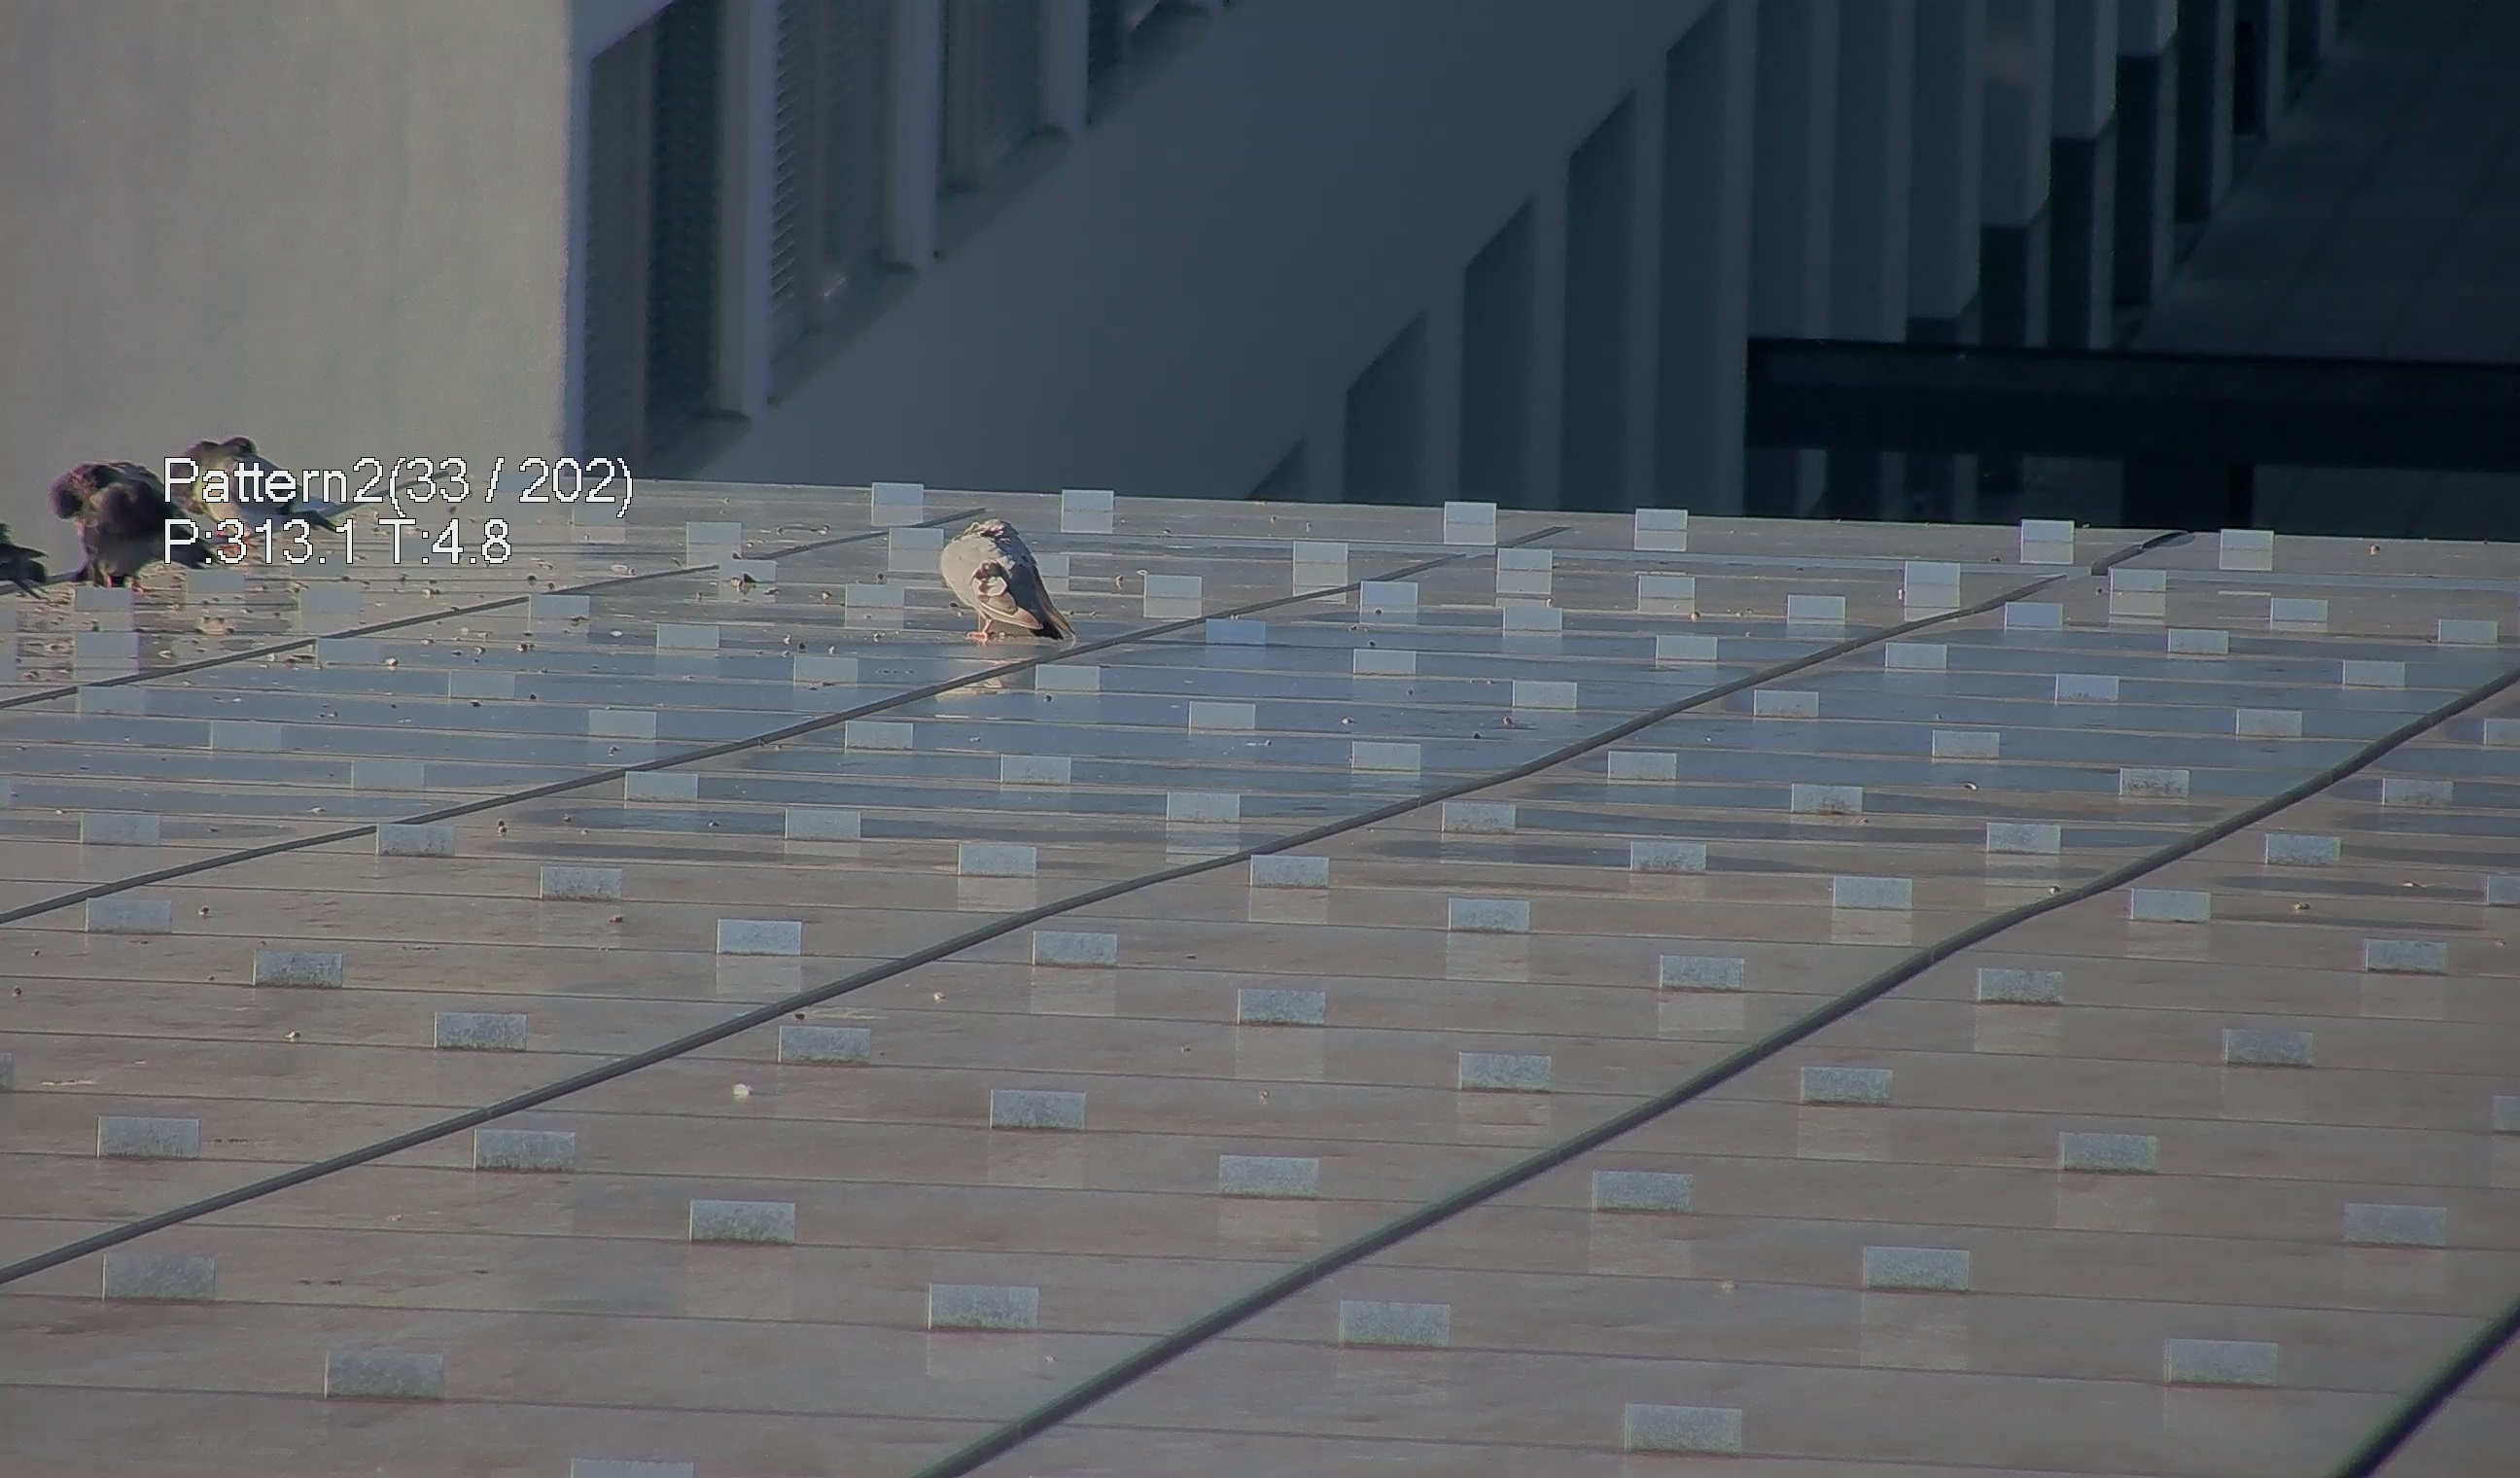Pigeon: (930, 501, 1074, 651), (51, 445, 200, 588)
